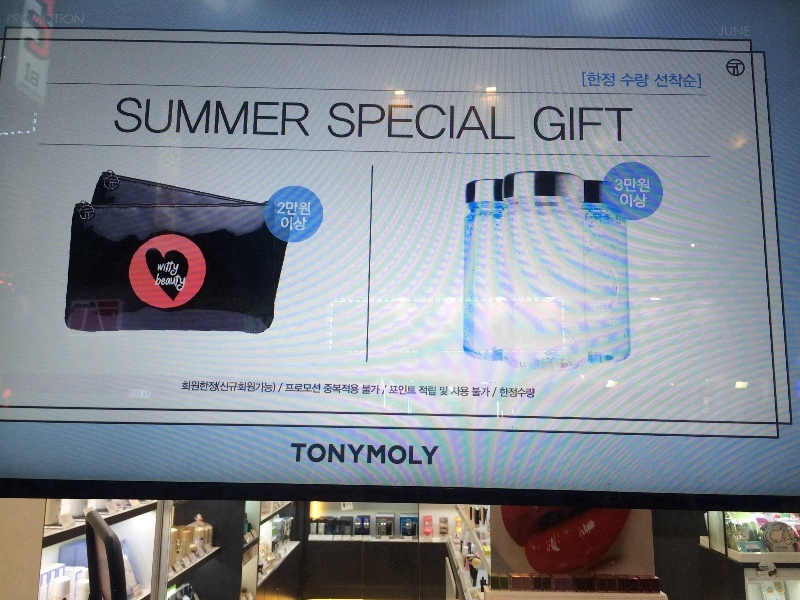text: (129, 96, 144, 139), (145, 96, 160, 139), (161, 96, 176, 139), (177, 96, 192, 139), (193, 96, 208, 139), (209, 96, 224, 139), (225, 96, 240, 139), (241, 96, 256, 139), (257, 96, 272, 139), (273, 96, 288, 139), (289, 96, 304, 139), (337, 101, 352, 142), (353, 101, 368, 142), (369, 101, 384, 142), (385, 101, 400, 142), (401, 101, 416, 142), (417, 101, 432, 142), (433, 101, 448, 142), (449, 101, 464, 142), (465, 101, 480, 142), (481, 101, 496, 142), (497, 101, 512, 142), (545, 105, 560, 142), (561, 105, 576, 142), (577, 105, 592, 142), (593, 105, 608, 142), (609, 105, 624, 142), (117, 96, 128, 139), (305, 443, 320, 469), (321, 443, 336, 469), (337, 443, 352, 469), (353, 443, 368, 469), (369, 443, 384, 469), (385, 443, 400, 469), (401, 443, 416, 469), (417, 443, 432, 469), (534, 105, 544, 142), (290, 443, 304, 469), (161, 272, 176, 293), (625, 105, 633, 142), (329, 101, 336, 142), (161, 261, 176, 278), (625, 193, 640, 210), (593, 71, 608, 88), (657, 73, 672, 90), (673, 73, 688, 90), (24, 60, 32, 91), (33, 60, 41, 91), (625, 178, 640, 194), (289, 216, 304, 232), (289, 201, 304, 217), (177, 272, 188, 293), (625, 73, 640, 88), (305, 96, 310, 139), (193, 381, 208, 395), (209, 381, 224, 395), (225, 381, 240, 395), (241, 381, 256, 395), (257, 381, 272, 395), (17, 13, 32, 27), (33, 13, 48, 27), (49, 13, 64, 27), (65, 13, 80, 27), (433, 443, 441, 469), (689, 73, 701, 90), (337, 384, 352, 397), (353, 384, 368, 397), (369, 384, 384, 397), (721, 24, 736, 37), (305, 383, 321, 395), (737, 24, 751, 37), (289, 383, 304, 395), (465, 386, 480, 398), (481, 386, 496, 398), (513, 387, 528, 399), (401, 385, 417, 396), (277, 201, 288, 217), (582, 71, 592, 88), (323, 384, 336, 397), (614, 178, 624, 194), (641, 178, 651, 194), (419, 385, 432, 397), (499, 387, 512, 399), (273, 381, 284, 395), (452, 386, 464, 398), (641, 73, 650, 88), (183, 381, 192, 395), (7, 13, 16, 27), (513, 101, 516, 142), (641, 193, 648, 210), (281, 216, 288, 232), (305, 201, 312, 217), (390, 385, 400, 396), (609, 71, 615, 88), (439, 386, 448, 397), (619, 193, 624, 210), (529, 387, 536, 399), (177, 261, 181, 278), (157, 272, 160, 293), (81, 13, 85, 27), (157, 261, 160, 278), (305, 216, 308, 232), (621, 73, 624, 88), (385, 384, 388, 397), (433, 385, 436, 397), (654, 73, 656, 90), (286, 383, 288, 395), (719, 24, 720, 37), (497, 386, 498, 398)
